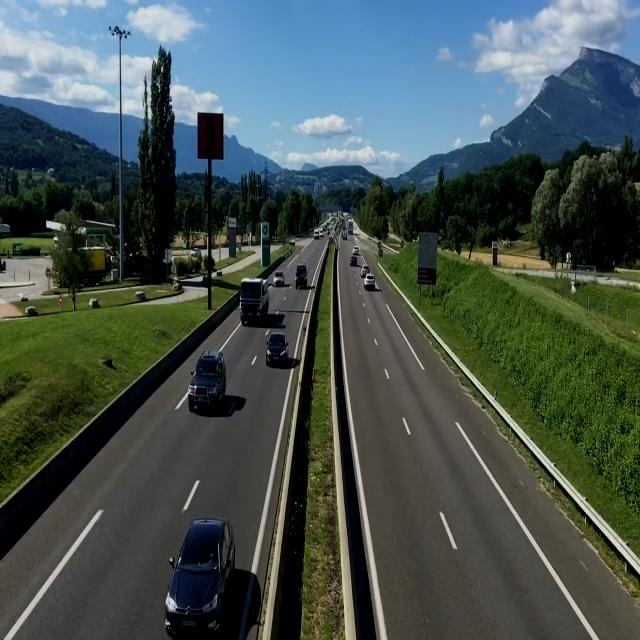Car: (165, 512, 238, 634), (186, 348, 227, 410), (264, 332, 289, 364), (272, 271, 286, 287), (364, 273, 374, 289), (359, 264, 368, 276), (350, 255, 357, 266), (352, 246, 360, 254)
Truck: (238, 278, 270, 326), (295, 264, 307, 292)
